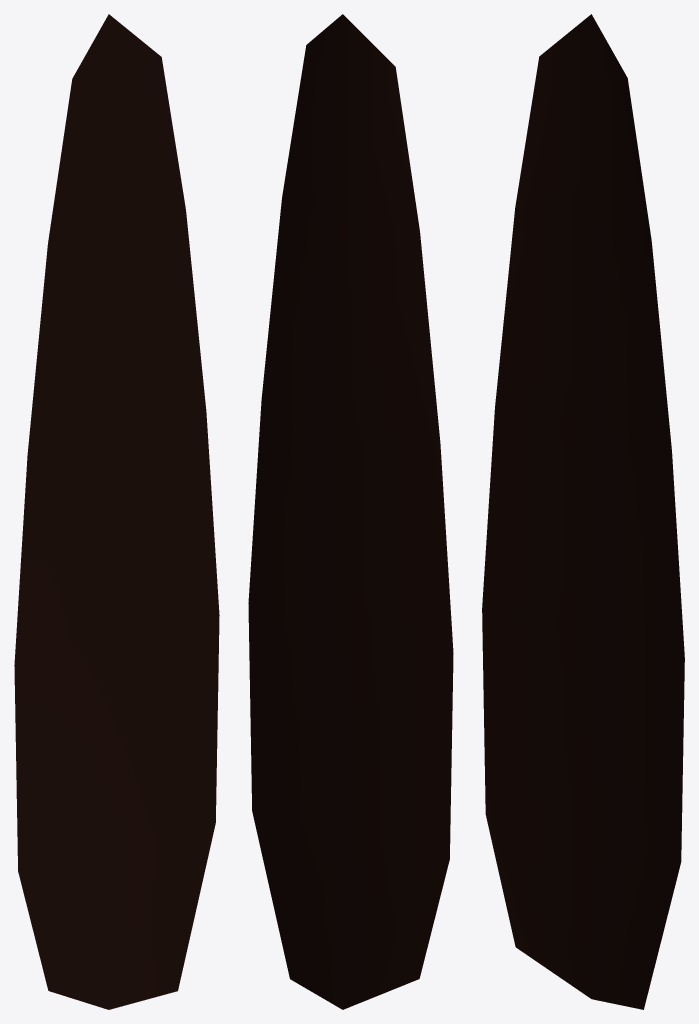
The model's file is finch_feather_flight_secondary_018.obj.
3 renders of one model, left to right at view 1: azimuth 30°, elevation 25°; view 2: azimuth 150°, elevation 25°; view 3: azimuth 330°, elevation 25°, orthographic.
Visible parts, largest first — view 1: feather_flight_secondary_018; view 2: feather_flight_secondary_018; view 3: feather_flight_secondary_018.
Part boxes in pixels (x1,y1,x2,y2): feather_flight_secondary_018: [14, 14, 219, 1009]; feather_flight_secondary_018: [248, 14, 453, 1009]; feather_flight_secondary_018: [482, 14, 684, 1009].
Bounding box in the file's own units: 0.00527 × 0.0245 × 0.000364.
